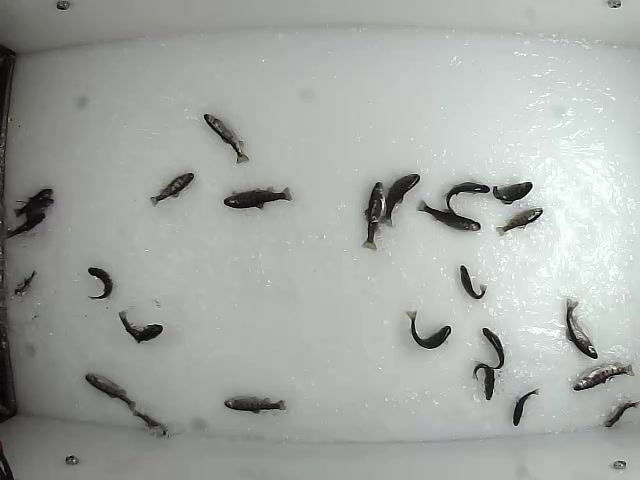fish: (377, 170, 425, 229), (560, 296, 600, 363), (202, 113, 251, 166), (415, 199, 484, 233), (359, 179, 389, 253), (404, 306, 454, 350), (572, 361, 636, 392), (444, 179, 493, 219), (220, 184, 295, 210), (83, 373, 135, 407), (493, 204, 544, 238), (115, 311, 165, 345), (147, 173, 194, 209), (222, 393, 287, 416), (510, 388, 543, 433), (474, 326, 507, 371), (125, 406, 172, 436), (600, 396, 640, 429), (13, 187, 54, 218), (4, 211, 47, 240), (460, 261, 490, 301), (490, 178, 534, 205), (85, 264, 114, 302), (472, 361, 497, 402), (11, 269, 39, 299)
